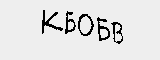Б: (97, 15, 110, 44), (64, 10, 77, 34)
В: (112, 20, 124, 46)
К: (40, 9, 61, 36)
О: (76, 13, 95, 39)
